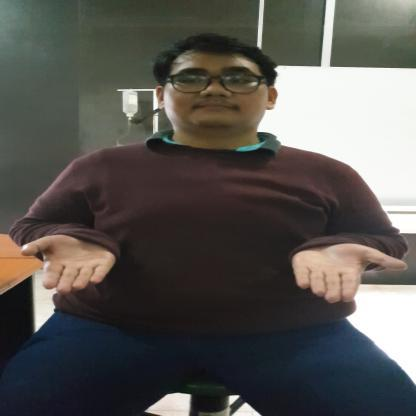Apa: (17, 232, 408, 306)
